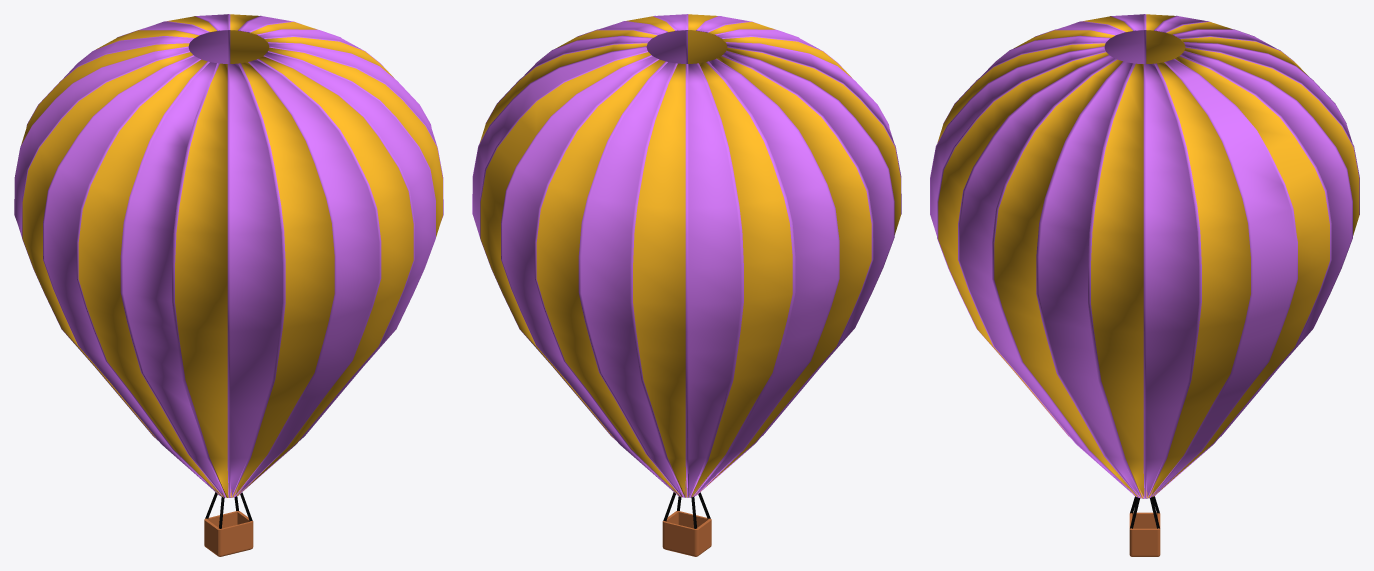
3 views of the same model, side by side, from view 1: azimuth 30°, elevation 25°; view 2: azimuth 150°, elevation 25°; view 3: azimuth 270°, elevation 25° (orthographic).
Parts seen in each view (by area): view 1: balloon, basket; view 2: balloon, basket; view 3: balloon, basket.
Part boxes in pixels (box(x1,y1,x2,y2)): balloon: box(14, 14, 443, 497); basket: box(204, 511, 253, 556); balloon: box(472, 14, 901, 497); basket: box(662, 511, 711, 556); balloon: box(930, 14, 1359, 498); basket: box(1129, 512, 1160, 556).
Bounding box in the file's own units: 7.41 × 9.56 × 7.41.
